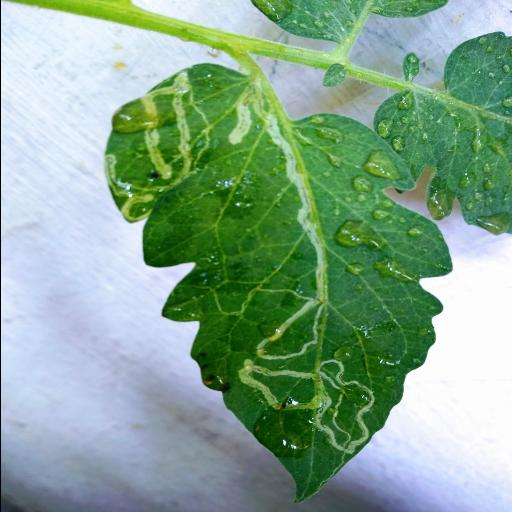disease_tomato: (101, 62, 457, 504)
